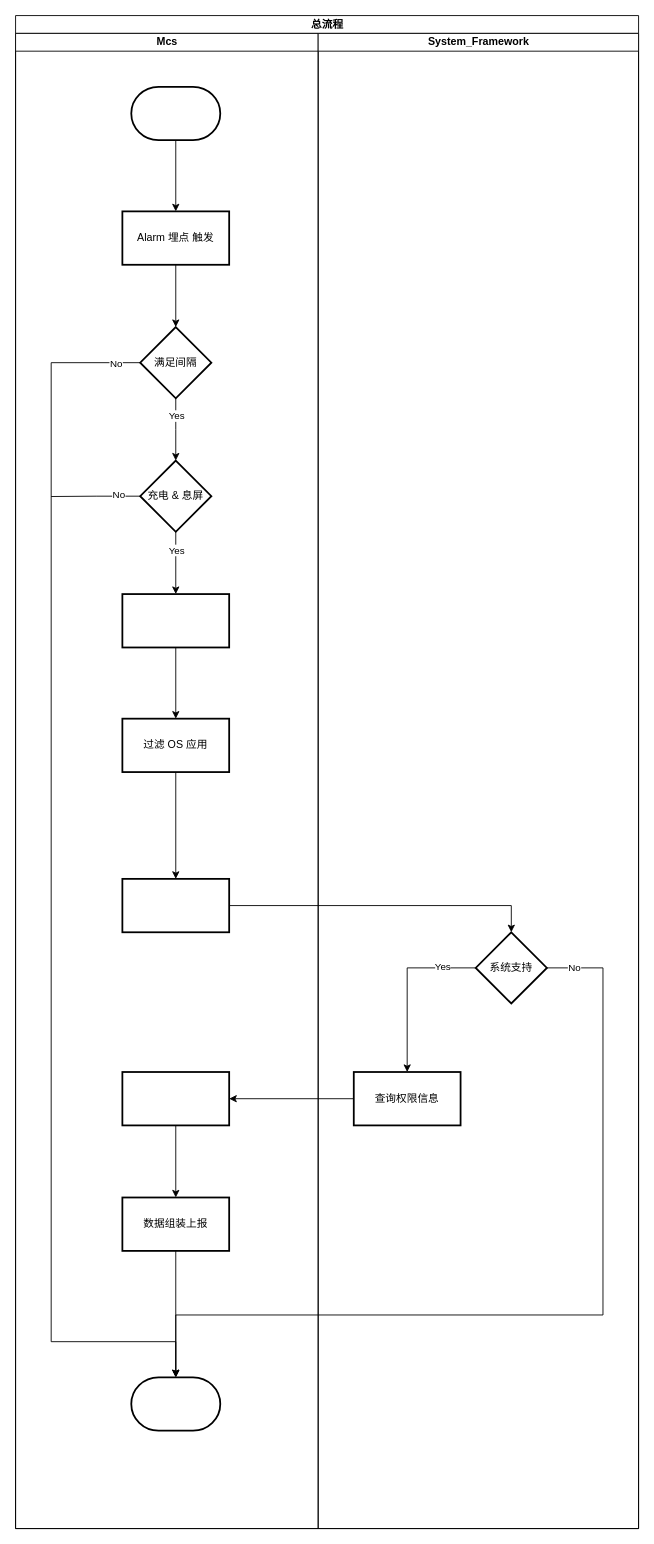
The diagram is 654 pixels wide and 1544 high, and some of its shapes have lost their labels. Here are the shapes that lost their labels. From the top down, the centre of each, then its label:
At (x=175, y=113): "Start".
At (x=175, y=620): "获取全量安装应用".
At (x=175, y=905): "确认 OS 是否支持".
At (x=175, y=1098): "数据解析".
At (x=175, y=1403): "End".
